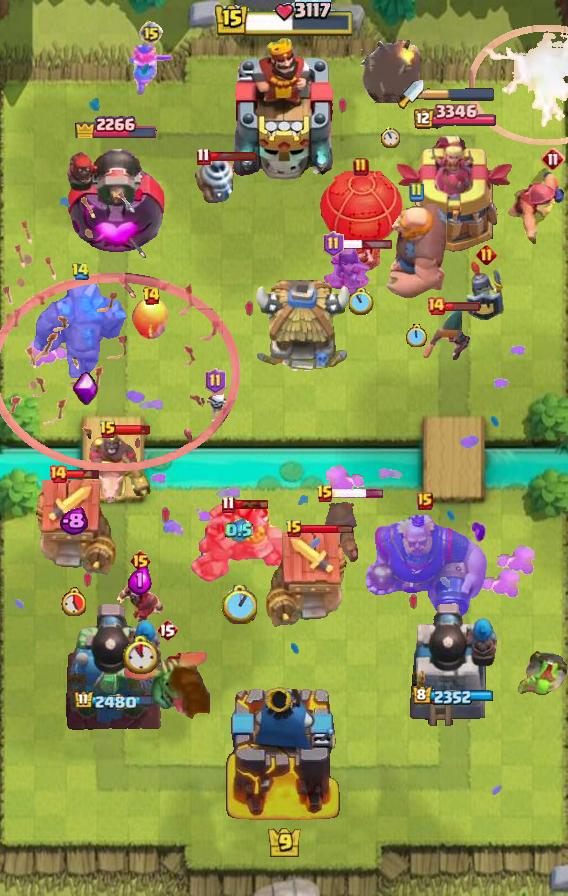baby-dragon: (361, 41, 420, 103)
balloon: (382, 199, 450, 301)
bar: (391, 132, 515, 256)
bar-level: (514, 650, 568, 698)
barbarian-evolution: (469, 24, 568, 146)
bomb-tower: (321, 499, 359, 575)
bowler: (115, 577, 165, 627)
cannon-cart: (319, 171, 403, 273)
cannoneer-tower: (31, 280, 129, 382), (186, 500, 292, 584)
clock: (213, 0, 355, 40)
electro-spirit: (60, 507, 89, 536), (128, 565, 152, 595), (225, 518, 253, 543)
electro-wizard: (124, 647, 210, 721)
elixir: (221, 584, 257, 623), (122, 635, 158, 674), (62, 588, 87, 616), (350, 289, 375, 316), (405, 323, 427, 349), (381, 127, 400, 149)
emote: (332, 488, 385, 499), (302, 525, 355, 536), (341, 238, 393, 249), (208, 150, 258, 161), (115, 424, 151, 436), (234, 498, 270, 510), (66, 468, 101, 480), (443, 301, 480, 312)
fireball: (506, 166, 568, 250)
freeze: (87, 433, 153, 505)
goblin-drill: (194, 153, 238, 205)
heal-spirit: (198, 388, 232, 424)
hog: (131, 297, 171, 341)
hog-rider: (127, 43, 175, 97)
king-tower: (223, 680, 345, 826), (228, 35, 340, 181)
king-tower-bar: (424, 87, 496, 101)
lightning: (362, 514, 488, 620)
prince: (251, 280, 353, 376)
princess: (464, 259, 508, 323)
selected: (71, 110, 156, 138), (412, 104, 497, 131), (73, 690, 155, 712), (412, 686, 494, 707)
skeleton-barrel: (0, 191, 240, 471)
skeleton-dragon: (319, 243, 371, 301)
skeleton-king-skill: (72, 371, 98, 405)
sparky: (30, 479, 116, 577), (266, 531, 352, 629)
tesla: (423, 308, 473, 364)
text: (139, 21, 163, 45), (541, 147, 565, 171), (129, 549, 152, 573), (323, 231, 344, 257), (206, 368, 227, 394), (156, 618, 178, 642), (476, 243, 497, 265), (426, 296, 446, 316), (48, 464, 68, 484), (70, 262, 90, 281), (143, 286, 162, 306), (99, 420, 117, 440), (316, 484, 334, 504), (285, 519, 303, 539), (353, 157, 369, 177), (408, 182, 424, 202), (417, 492, 433, 510), (220, 495, 235, 513), (197, 147, 211, 165)
tower-bar: (64, 601, 164, 731), (62, 138, 166, 256), (408, 599, 498, 731)
